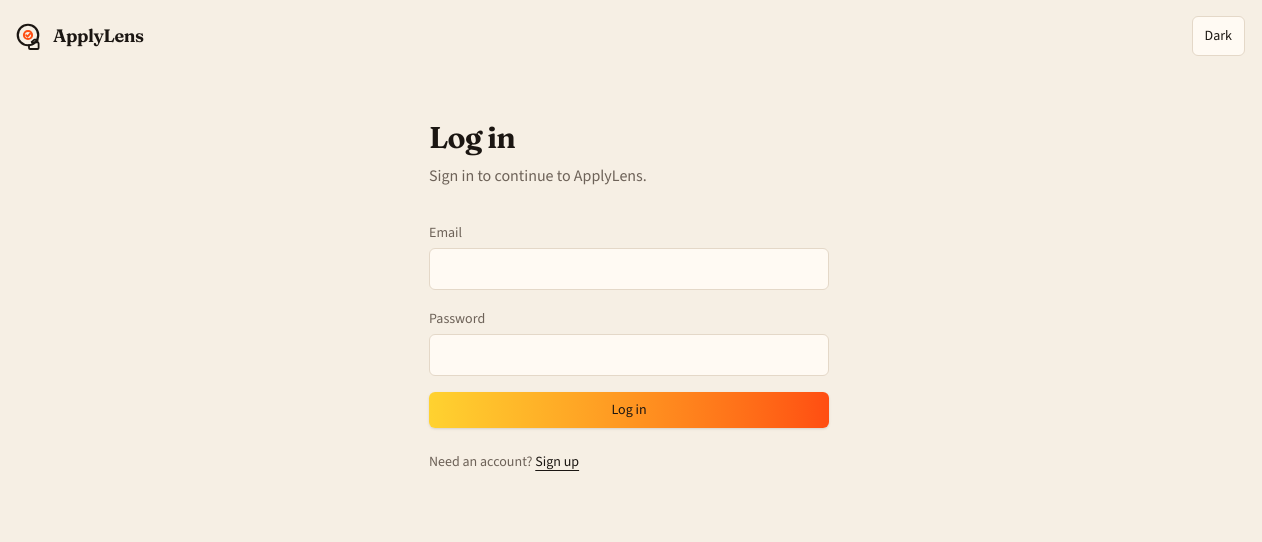
it: frontend authentication flows › handles invalid credentials without exposing internals
In the field labelled "Email": (629, 269) x1=429 y1=248 x2=829 y2=290, type "user@example.com"
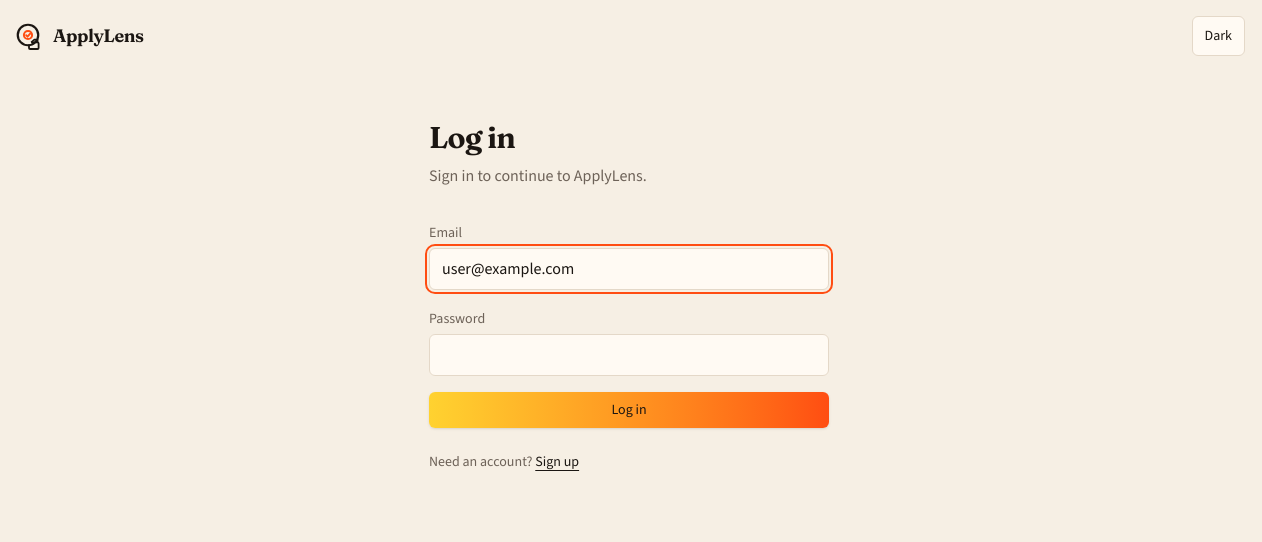
In the password field labelled "Password": (629, 355) x1=429 y1=334 x2=829 y2=376, type "wrong-password"
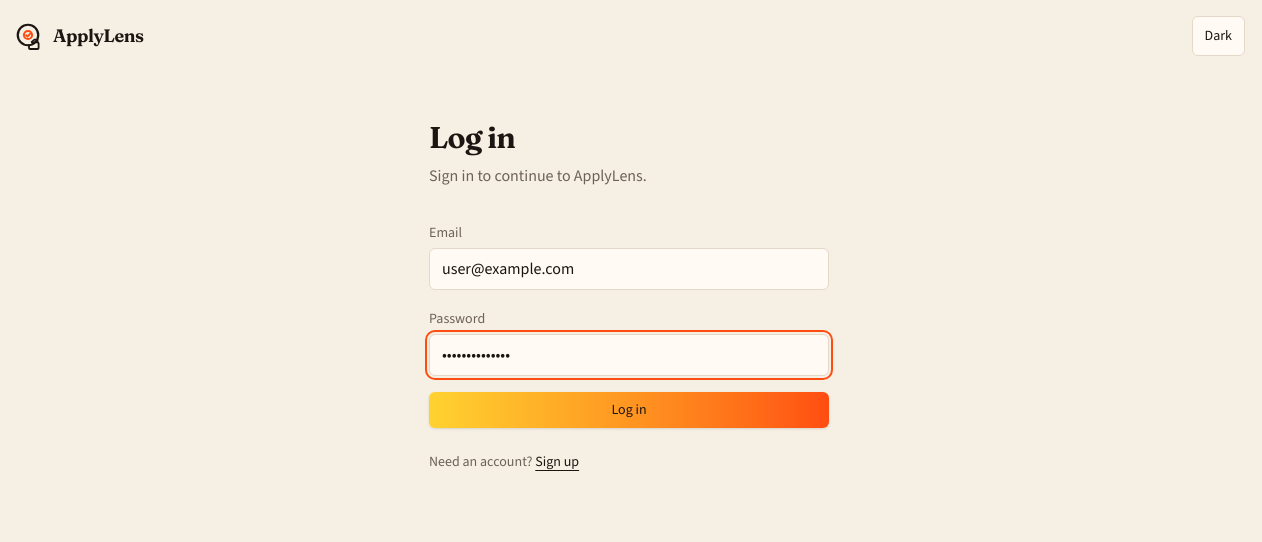
Click the button "Log in": (629, 410) x1=429 y1=392 x2=829 y2=428
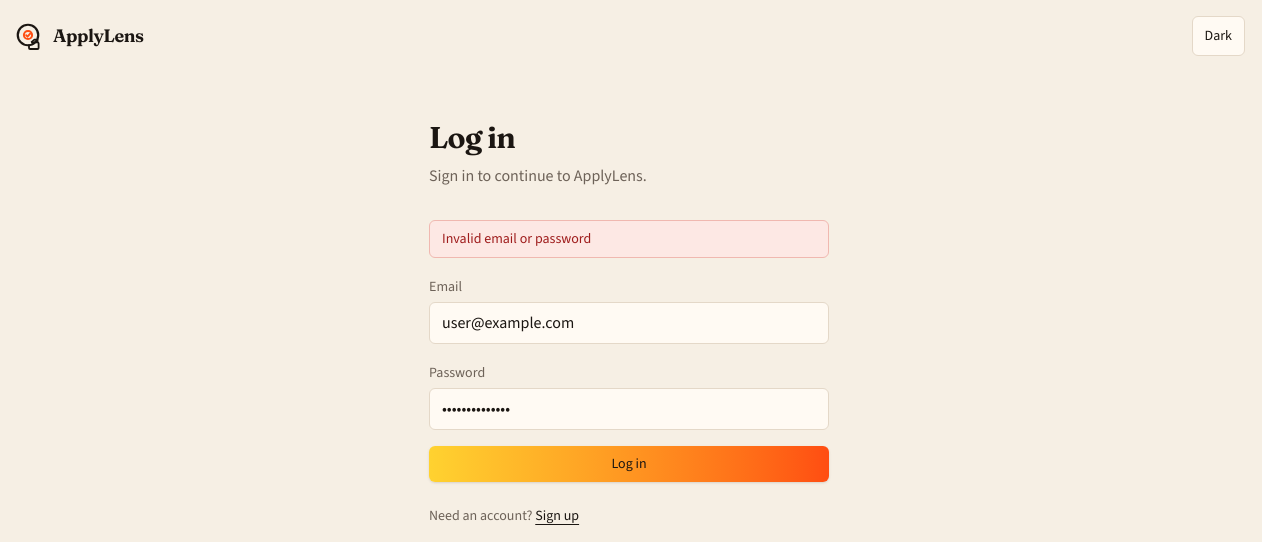
Expected: the message reads "Invalid email or password", x1=442 y1=229 x2=591 y2=248
